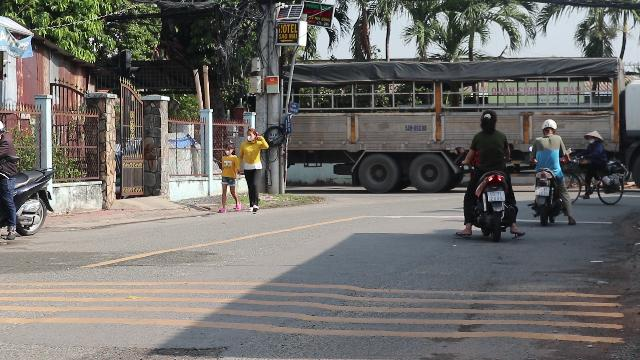licenseplate: (488, 191, 504, 201)
motorcyclist: (458, 110, 520, 240)
nohelmet: (478, 111, 498, 131)
